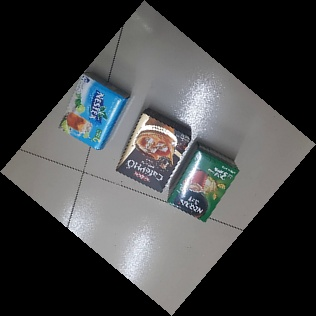CF pho: (115, 109, 192, 193)
Nes Rang: (166, 143, 241, 224)
Nestea: (57, 72, 129, 149)
